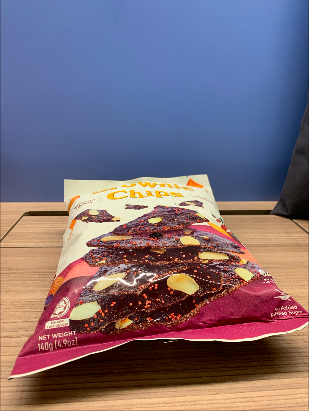Crackers_100-199g: (73, 181, 224, 332)
